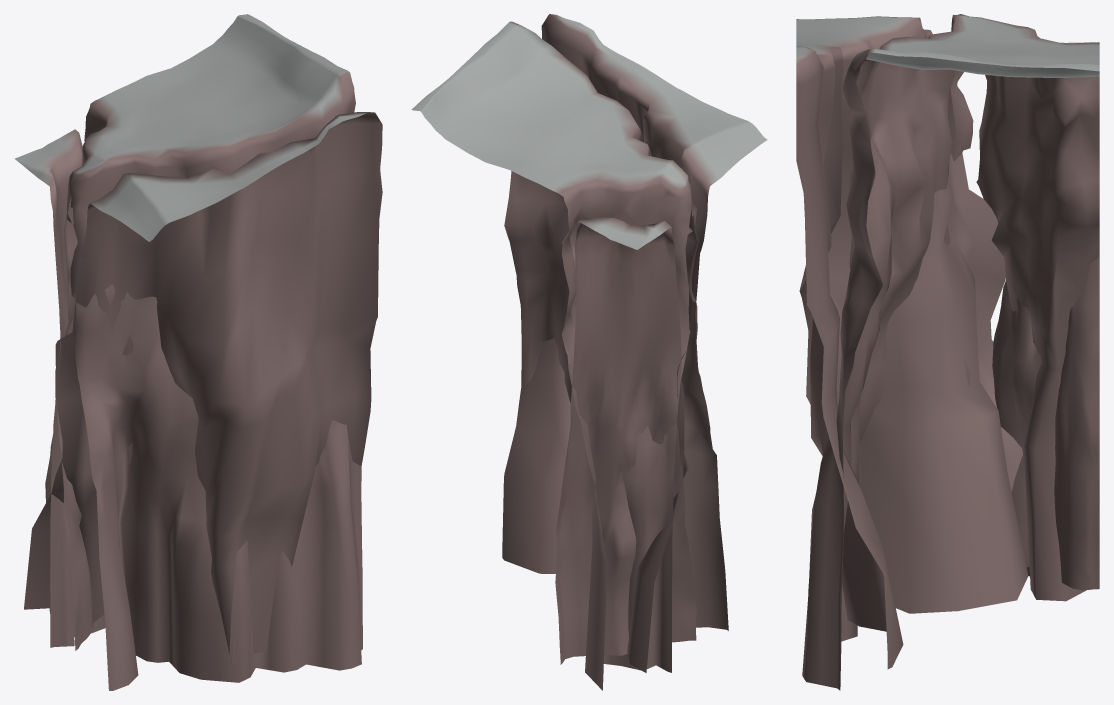
3 renders of one model, left to right at view 1: azimuth 30°, elevation 25°; view 2: azimuth 150°, elevation 25°; view 3: azimuth 270°, elevation 25°, orthographic. The views are drawn at different scales.
Visible parts, largest first — view 1: G:\FFXIV-MapTools\exports\u5f1\bg\ex4\04_uvs_u5\fld\u5f1\bgp (×13); view 2: G:\FFXIV-MapTools\exports\u5f1\bg\ex4\04_uvs_u5\fld\u5f1\bgp (×14); view 3: G:\FFXIV-MapTools\exports\u5f1\bg\ex4\04_uvs_u5\fld\u5f1\bgp (×11).
Part boxes in pixels (x1=…): G:\FFXIV-MapTools\exports\u5f1\bg\ex4\04_uvs_u5\fld\u5f1\bgp (×13): x1=14, y1=14, x2=382, y2=690; G:\FFXIV-MapTools\exports\u5f1\bg\ex4\04_uvs_u5\fld\u5f1\bgp (×14): x1=411, y1=14, x2=759, y2=690; G:\FFXIV-MapTools\exports\u5f1\bg\ex4\04_uvs_u5\fld\u5f1\bgp (×11): x1=796, y1=14, x2=1099, y2=690.
Size of the model in its own units: 128 by 298 by 128.
